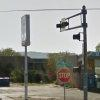Traffic light: (48, 13, 93, 47)
